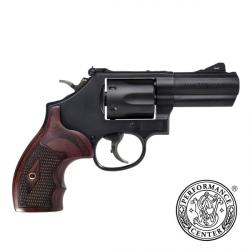Revolver: (2, 45, 240, 212)
